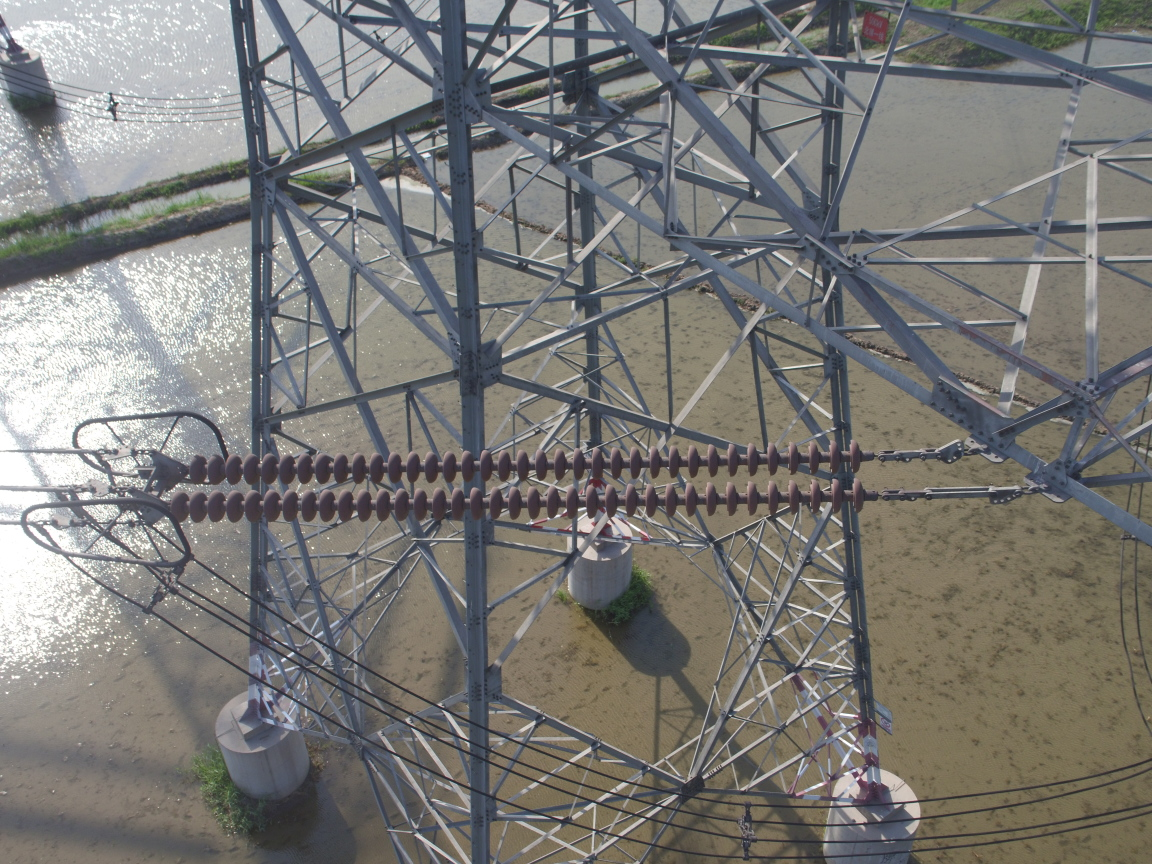insulator: (145, 439, 922, 524)
